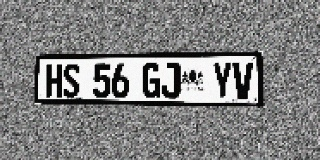5: (93, 63, 111, 98)
6: (111, 63, 129, 98)
G: (142, 63, 161, 98)
H: (46, 64, 63, 97)
J: (161, 63, 180, 98)
S: (63, 64, 80, 97)
V: (233, 62, 253, 99)
Y: (212, 62, 232, 99)
